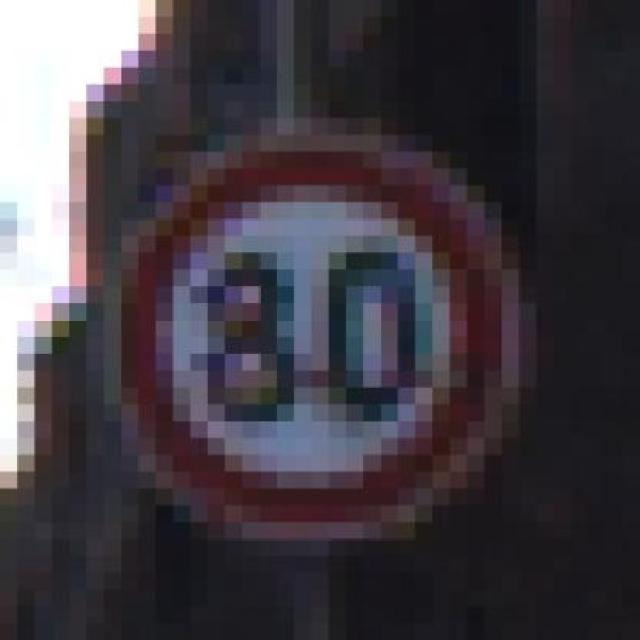forb_speed_over_80: (130, 151, 512, 531)
